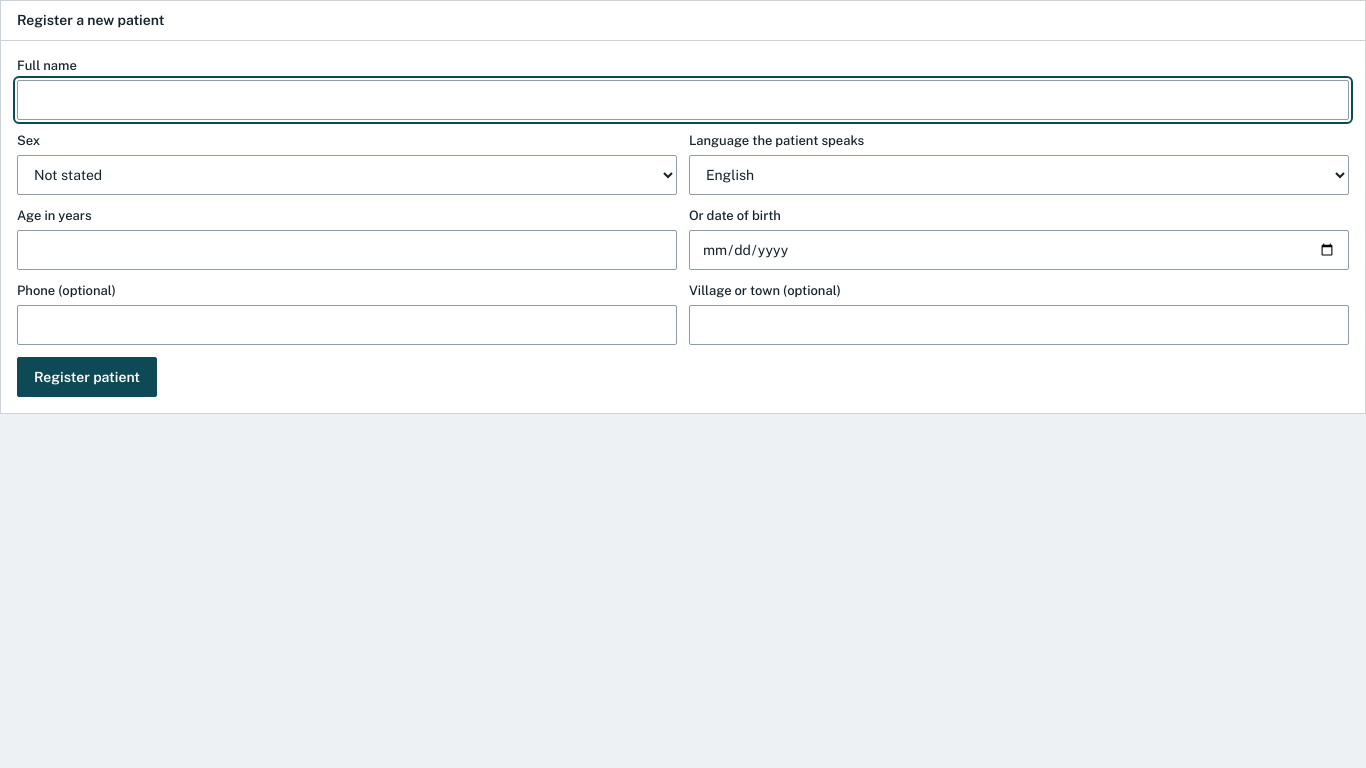
Scenario: RegisterPatientForm › editing a field after a duplicate warning clears the warning (it no longer applies)
Type "Meera Das" into the field labelled "Full name" at (683,100), box [17, 80, 1349, 120]
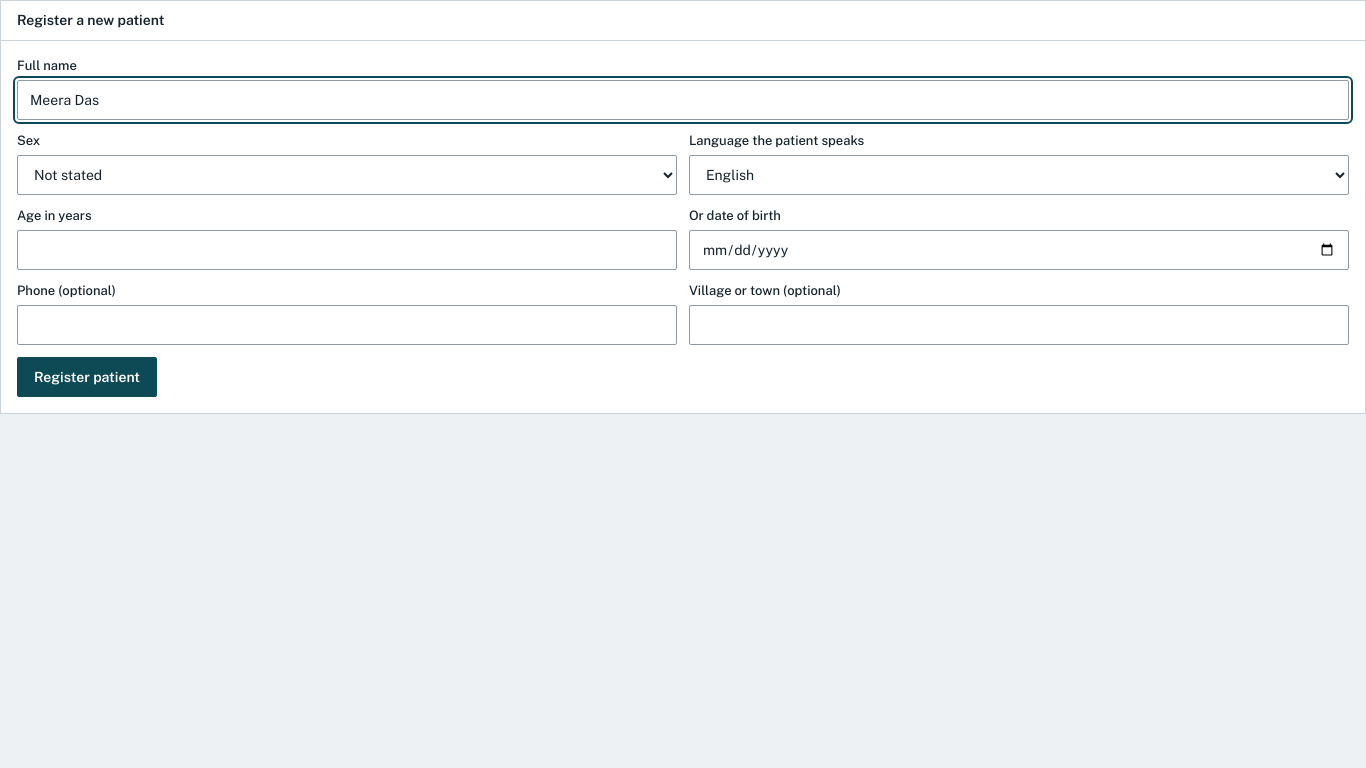
Type "28" into the field labelled "Age in years" at (347,250), box [17, 230, 677, 270]
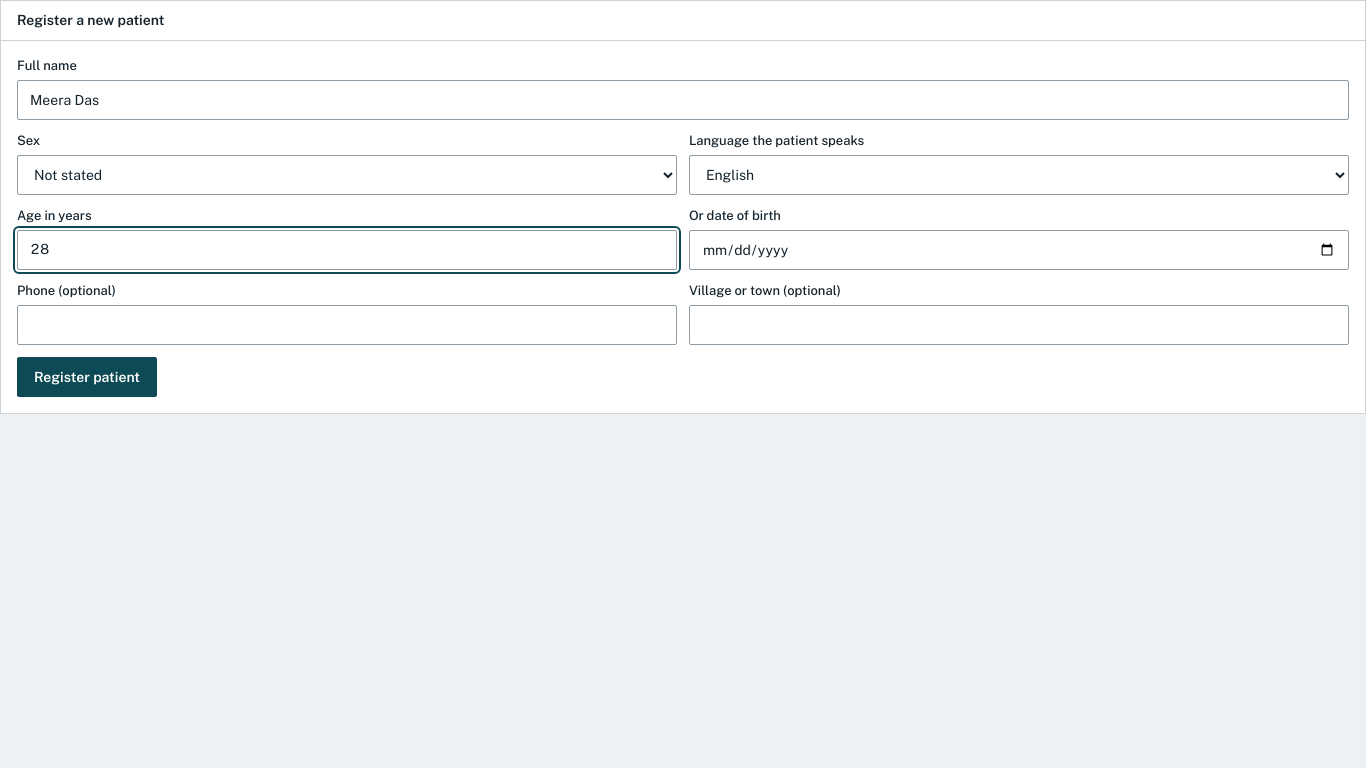
Click the button "Register patient" at (87,377), box [17, 357, 157, 397]
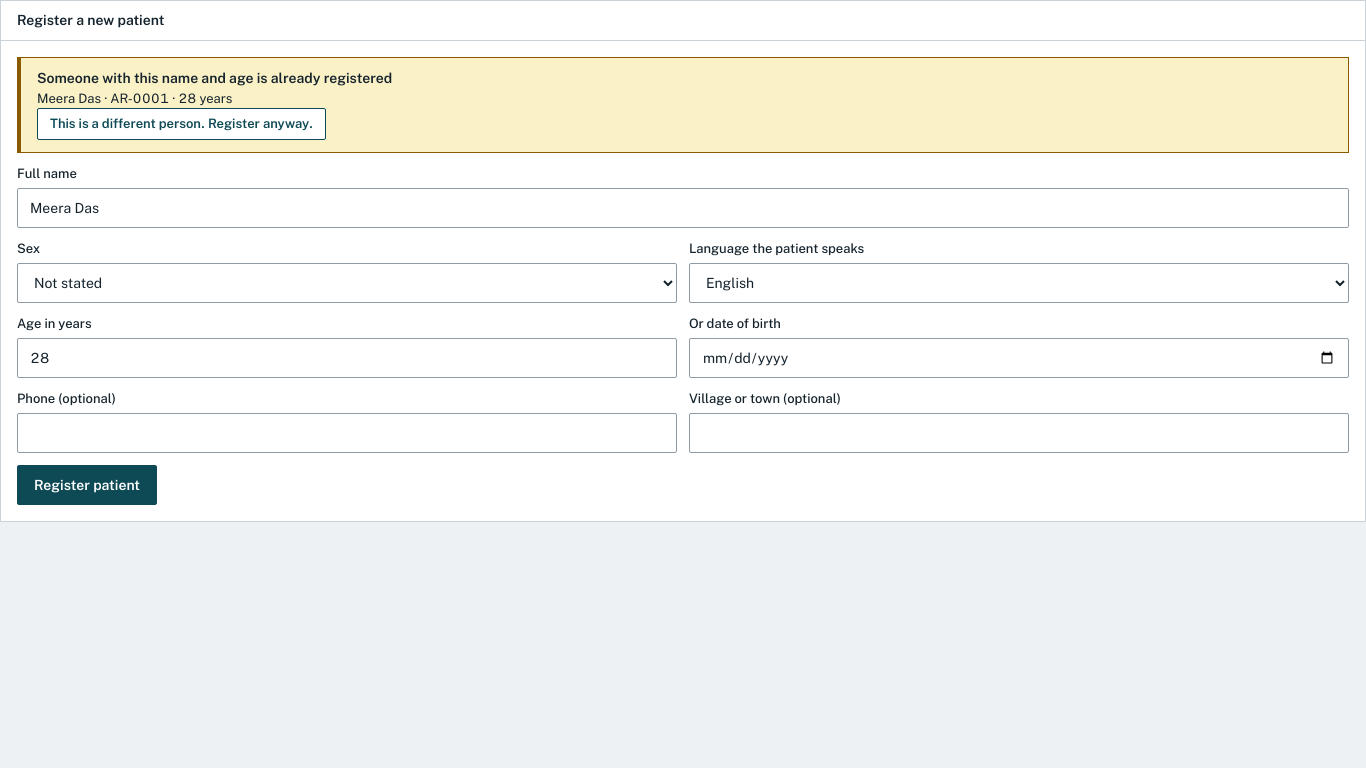
Check: the text "Someone with this name and age is already registered" is shown, box [37, 70, 392, 86]
Type "a" into the field labelled "Full name" at (683,208), box [17, 188, 1349, 228]
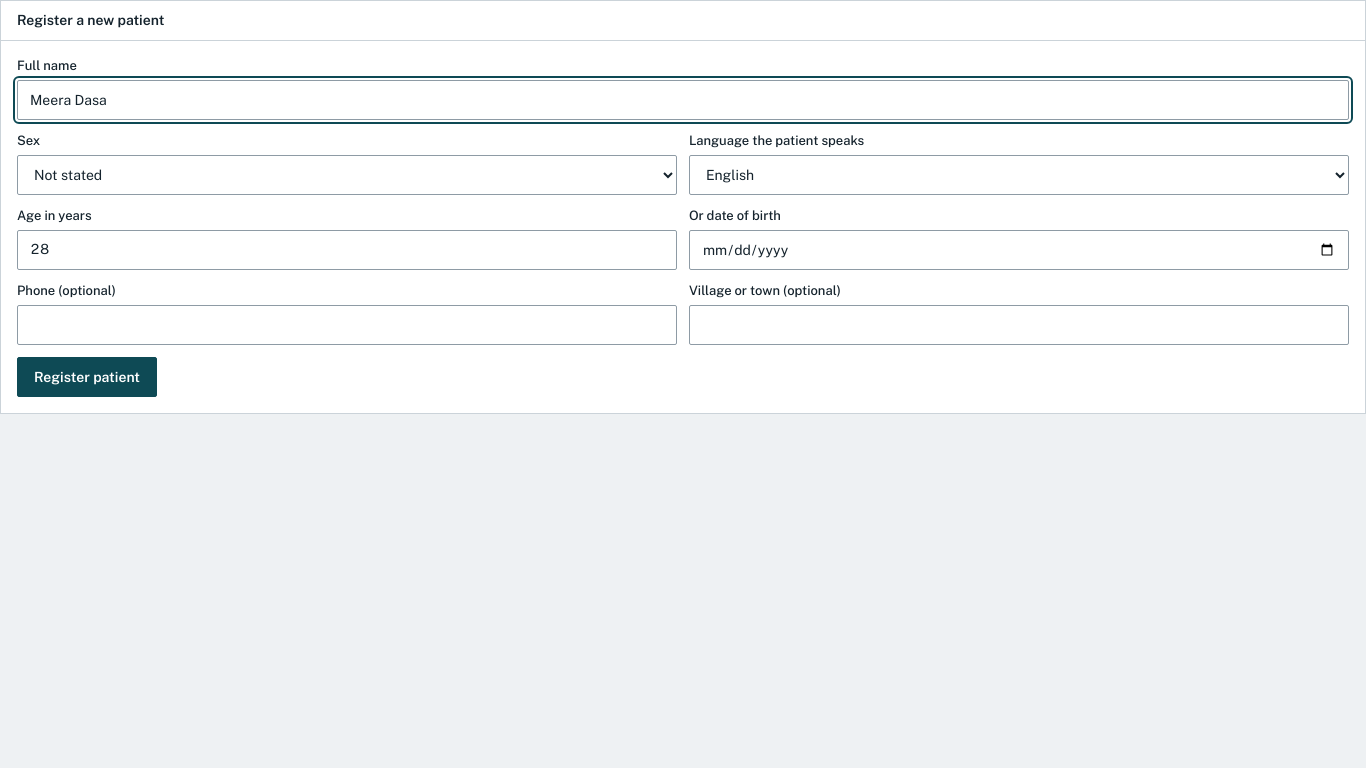
Check: the text "already registered" is gone
